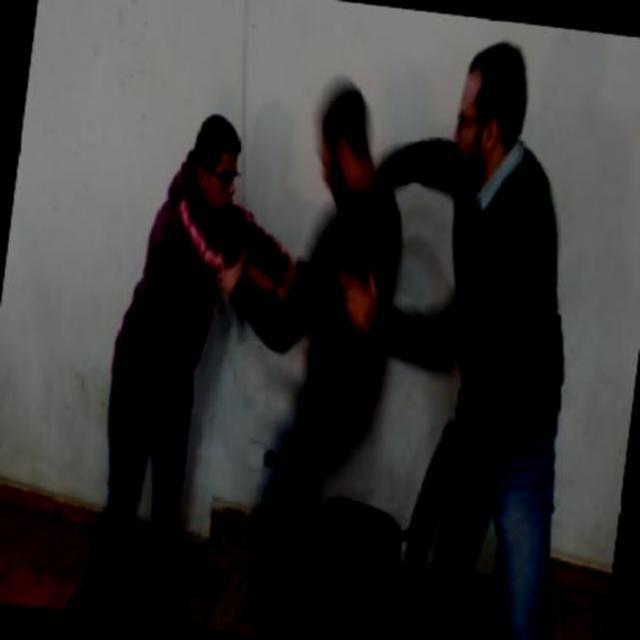fight: (112, 55, 414, 511)
